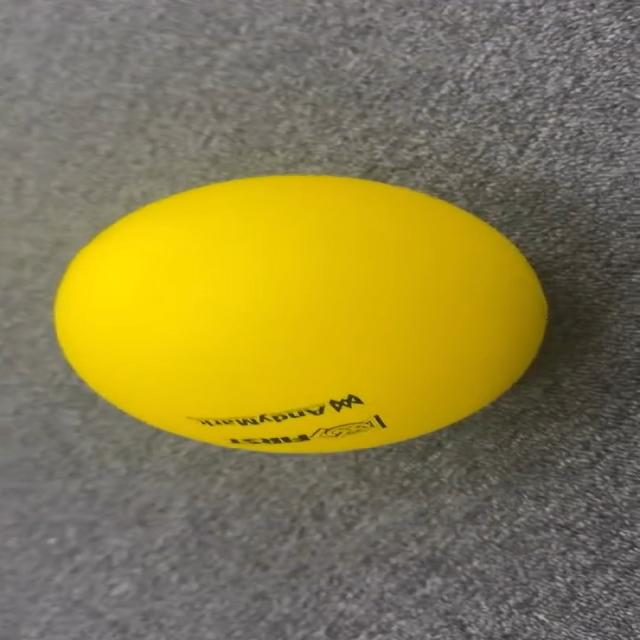Fuels: (54, 178, 546, 449)
